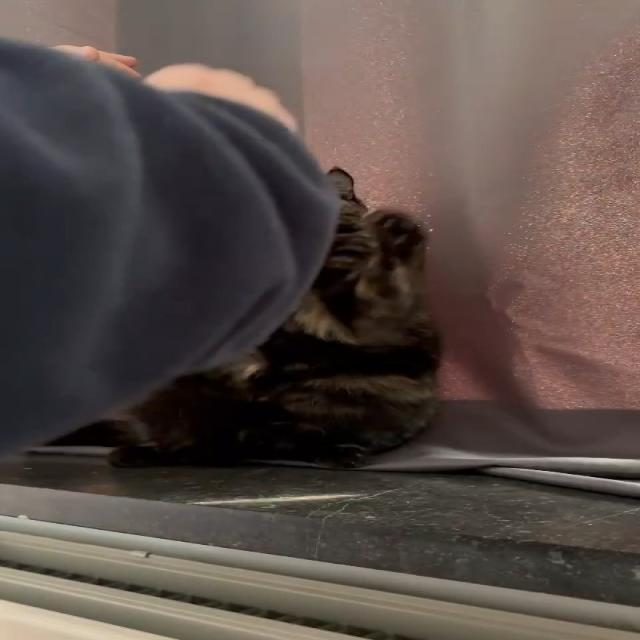authorized: (100, 164, 443, 470)
